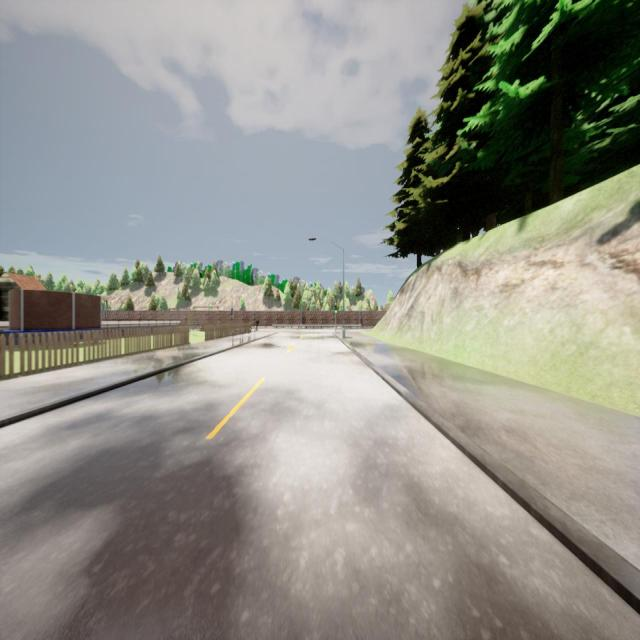Pedestrian: (256, 318, 259, 332)
traffic_light: (334, 305, 338, 314), (230, 308, 232, 315)
